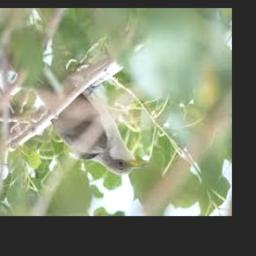Cuckoo: (34, 61, 148, 176)
